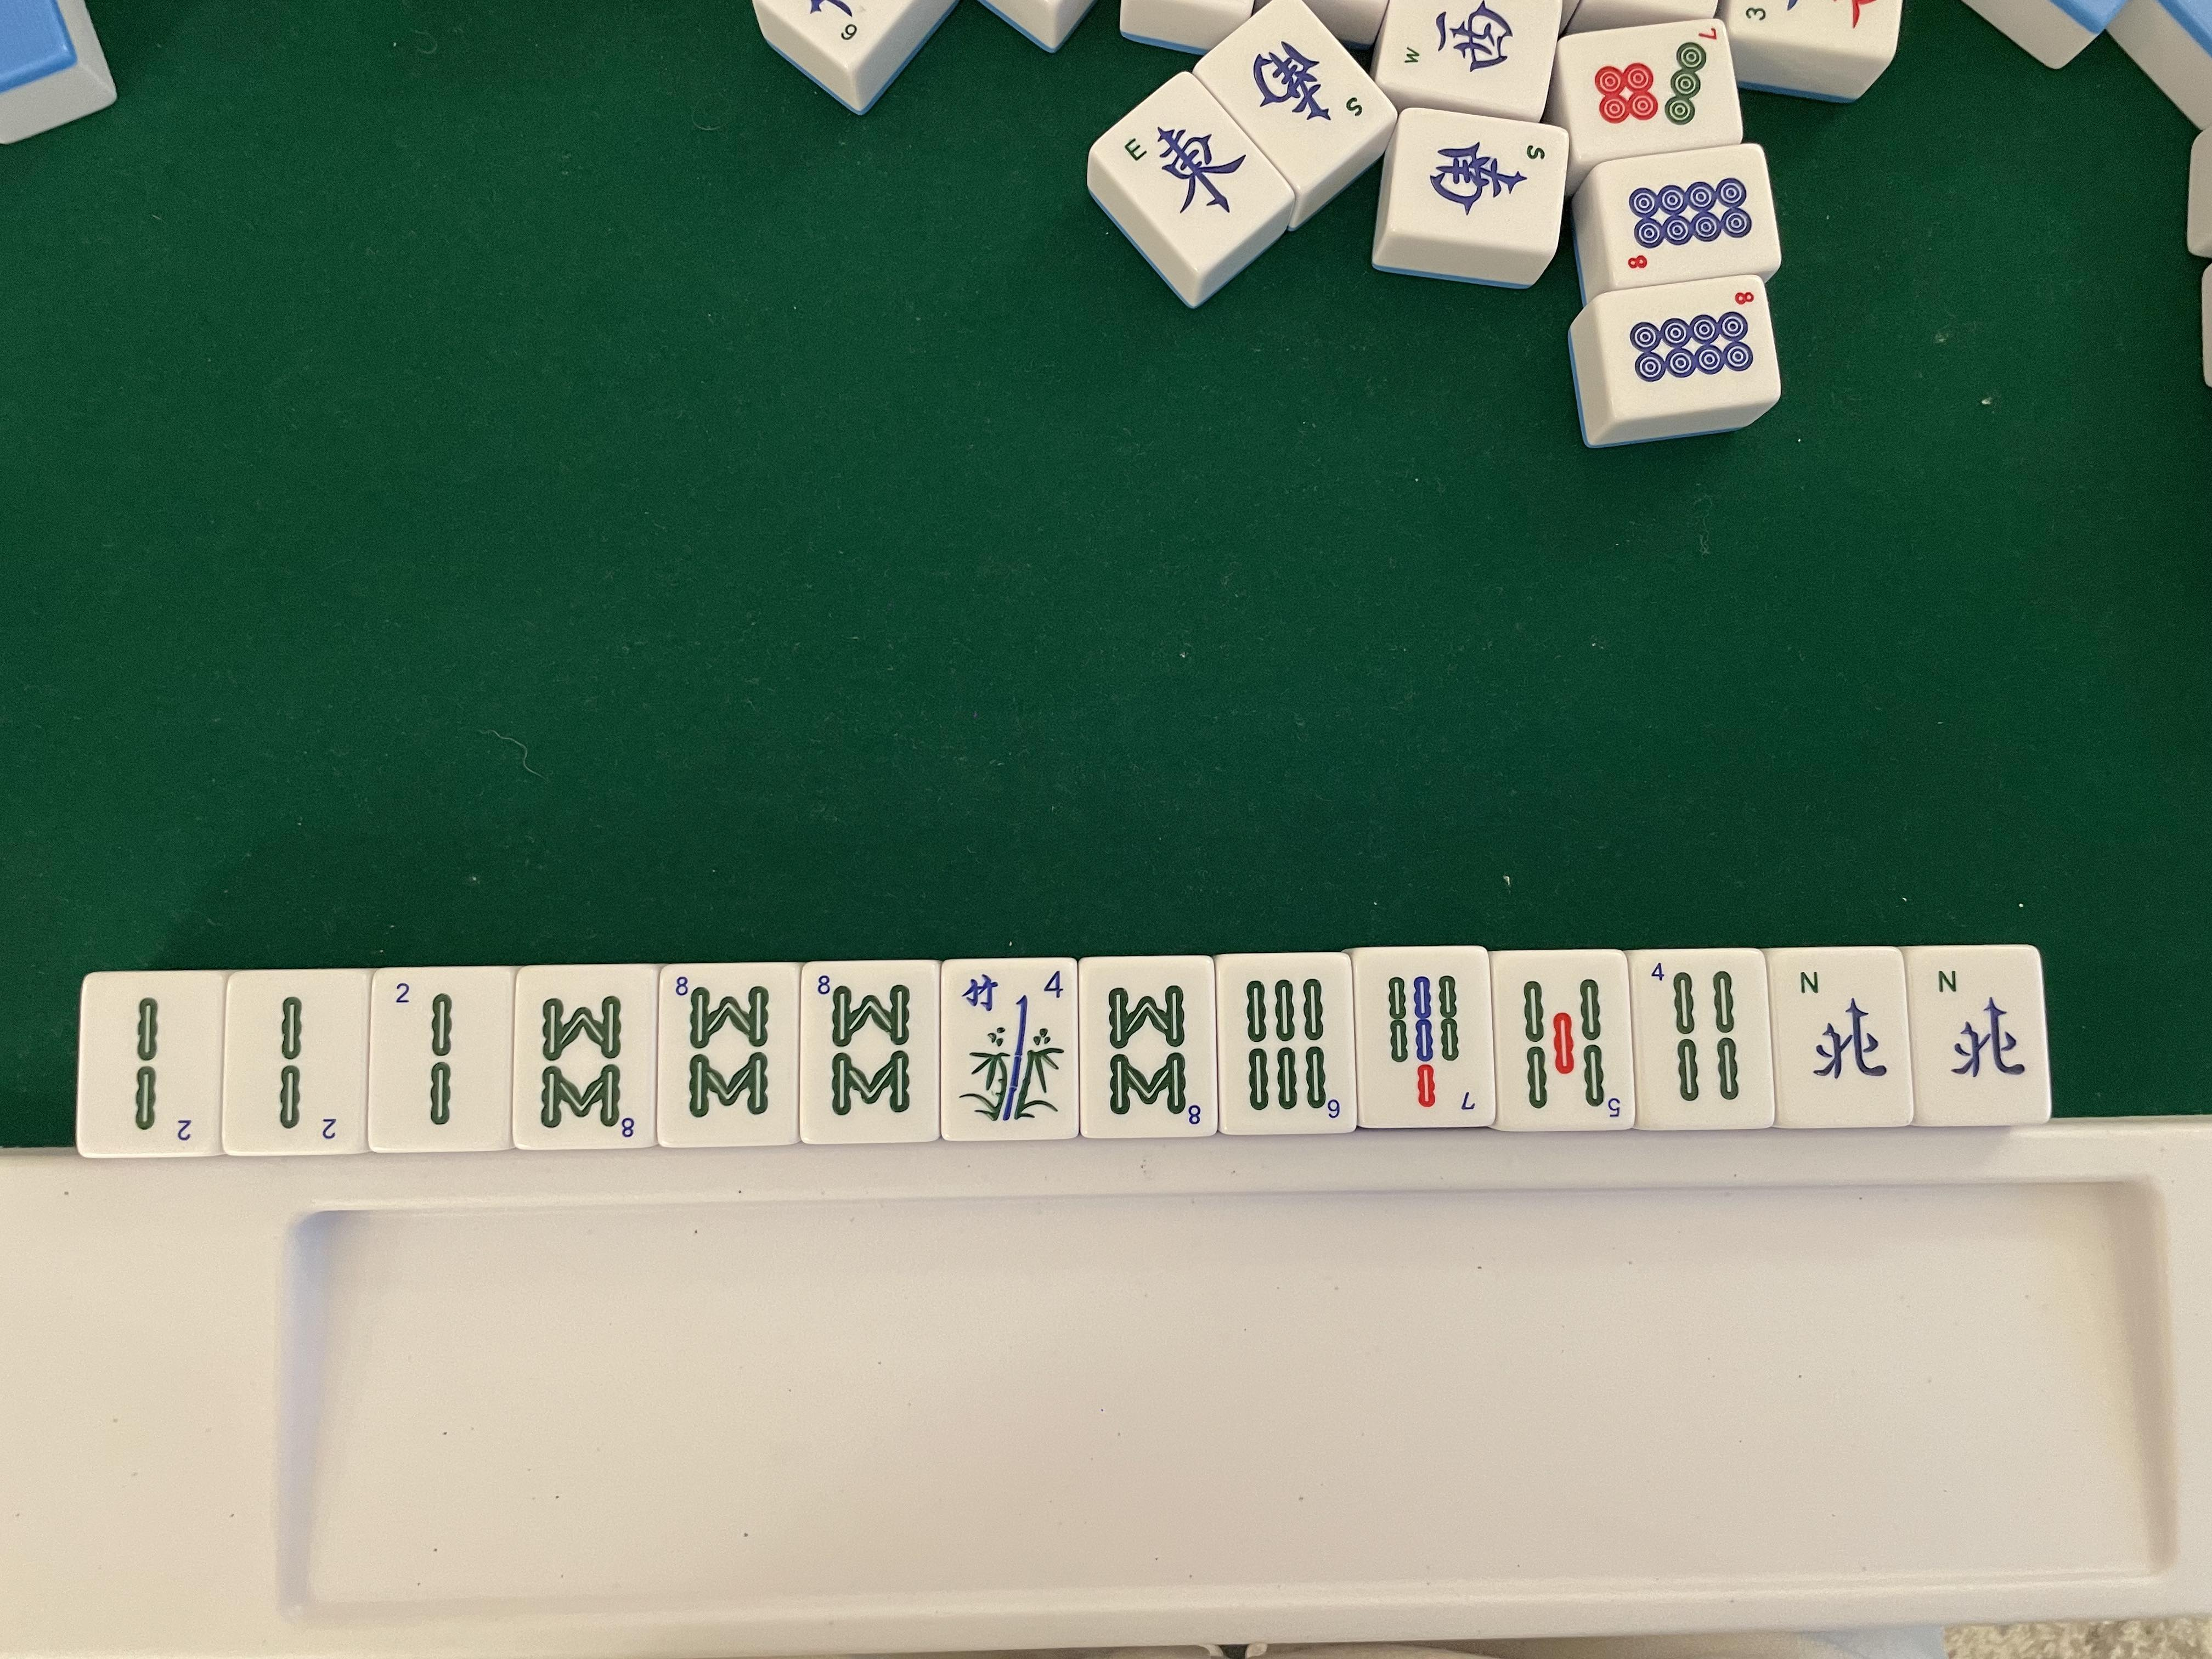bamboo-eight: (526, 974, 643, 1138), (669, 971, 782, 1133), (812, 967, 923, 1131), (1096, 967, 1211, 1126)
bamboo-five: (1510, 965, 1630, 1121)
bamboo-four: (1644, 957, 1761, 1114)
bamboo-seven: (1374, 962, 1486, 1115)
bamboo-six: (1235, 965, 1348, 1131)
bamboo-two: (237, 978, 354, 1150), (99, 981, 211, 1147), (387, 976, 496, 1138)
flower-blue_four: (951, 967, 1069, 1133)
honor-north_wind: (1794, 955, 1902, 1108), (1928, 957, 2031, 1100)
